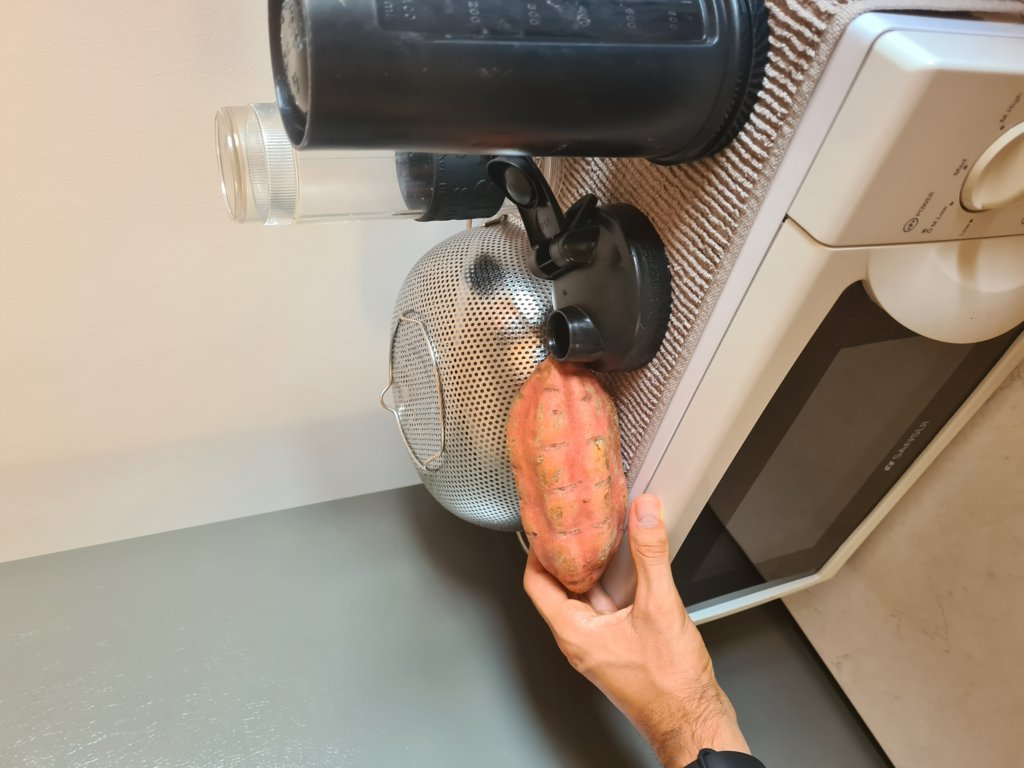Sweet Potatow: (506, 346, 633, 603)
